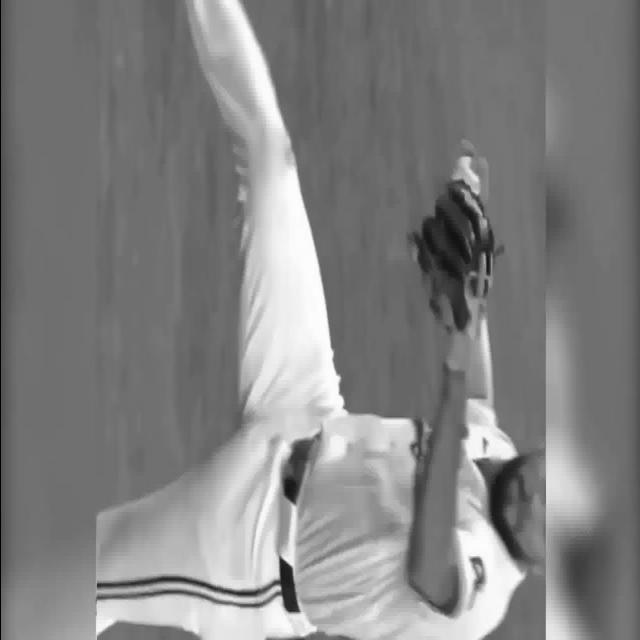baseball: (456, 158, 484, 202)
baseball_glove: (408, 177, 498, 335)
